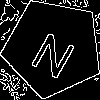N: (28, 23, 83, 81)
